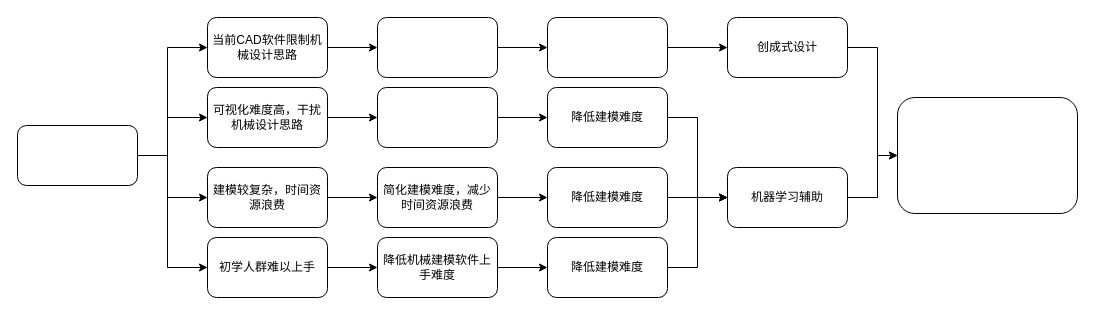
The diagram is 1095 pixels wide and 315 high, and some of its shapes have lost their labels. Here are the shapes that lost their labels. From the top down, the centre of each, then its label:
At point 437,47: "提供多种机械设计思路".
At point 607,47: "提供多种机械设计方案".
At point 437,117: "快速可视化设计思路".
At point 77,155: "机械设计领域".
At point 987,155: "基于模型上下文信息与位姿、载荷需求，结合语言模型，使用创成式设计快速建模多种设计方案".
